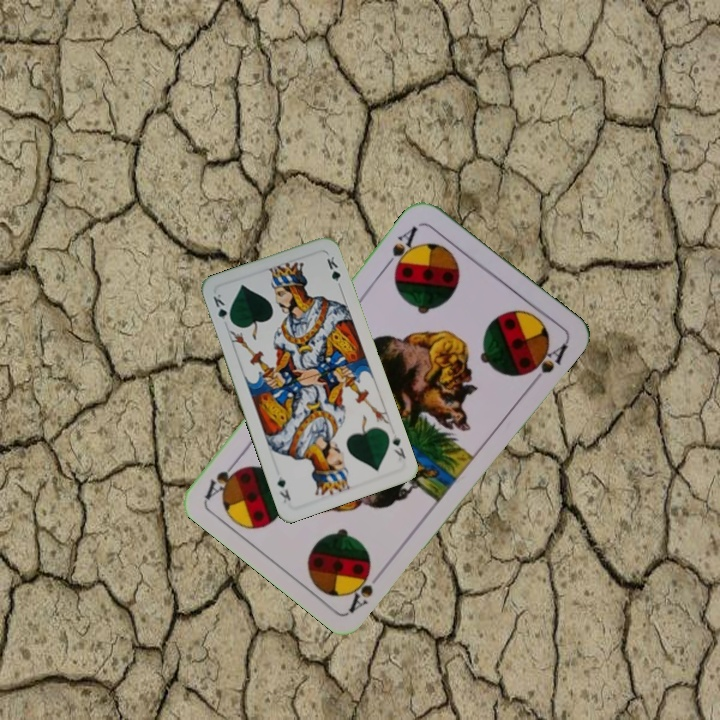GK: (209, 290, 235, 326), (388, 431, 408, 461)
SA: (344, 563, 388, 615), (380, 221, 421, 276)
